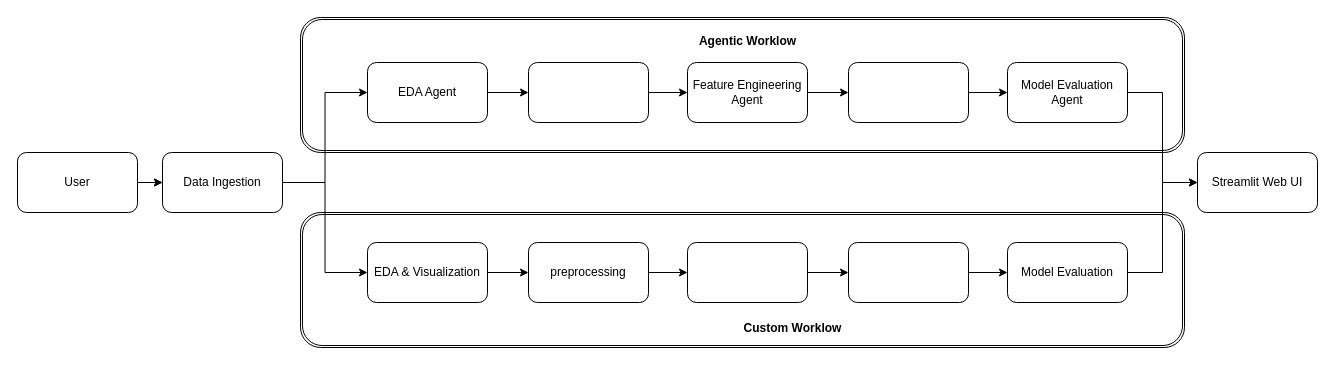
Some shapes in this 1335 by 365 pixel diagram are drawn without their labels. The shapes that lost their labels are listed below. From the top down, each one's centre as x and y in pixels, then its label:
the point at 588,92: Preprocessing Agent
the point at 908,92: Model training Agent
the point at 747,272: Feature Engineering
the point at 908,272: Model training
